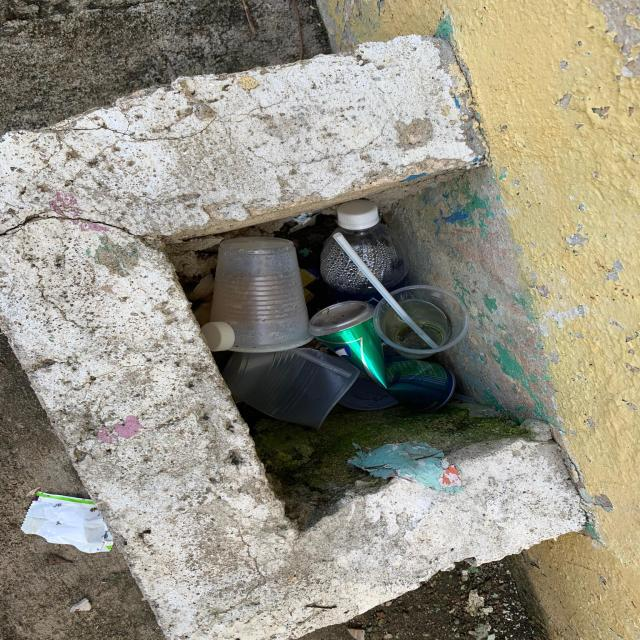litter: (309, 301, 455, 412), (332, 232, 438, 349), (208, 238, 312, 350), (221, 349, 358, 429), (321, 201, 410, 305), (375, 288, 471, 358), (20, 491, 114, 553), (352, 442, 462, 492), (337, 372, 397, 410), (291, 348, 354, 378), (202, 321, 233, 352)
